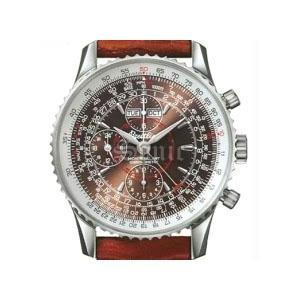pen: (48, 56, 247, 237)
